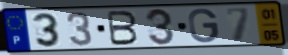3: (144, 7, 177, 47), (31, 12, 63, 49), (66, 10, 95, 48)
7: (225, 6, 252, 44)
B: (106, 10, 140, 47)
G: (187, 8, 221, 45)
